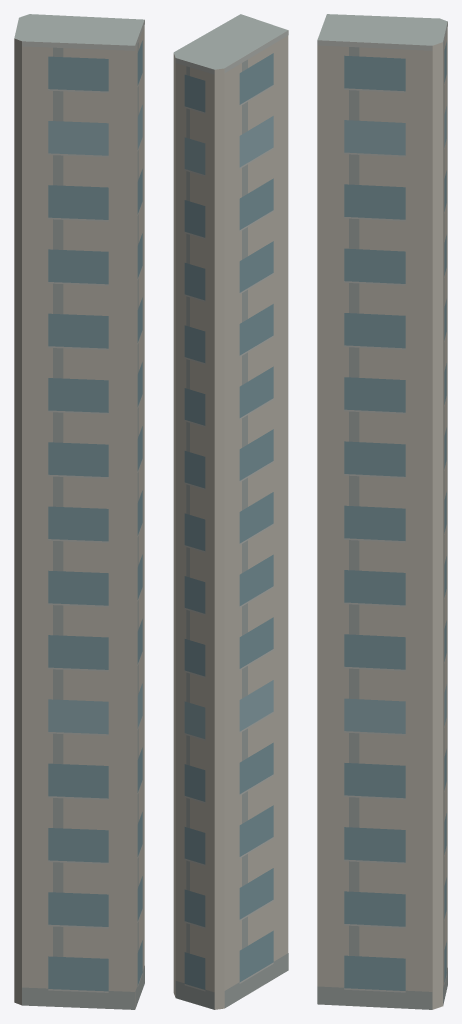
The model's file is survey-upis-32983552.glb.
The picture shows the model from 3 angles, left to right: view 1: azimuth 90°, elevation 25°; view 2: azimuth 150°, elevation 25°; view 3: azimuth 270°, elevation 25°; orthographic projection. The views are drawn at different scales.
Visible parts, largest first — view 1: survey-upis-32983552.tmp; view 2: survey-upis-32983552.tmp; view 3: survey-upis-32983552.tmp.
Part boxes in pixels (bbox=[...]): survey-upis-32983552.tmp: bbox=[14, 14, 144, 1009]; survey-upis-32983552.tmp: bbox=[173, 14, 288, 1009]; survey-upis-32983552.tmp: bbox=[317, 14, 447, 1009].
Size of the model in its own units: 3.24 by 45.75 by 5.62.
